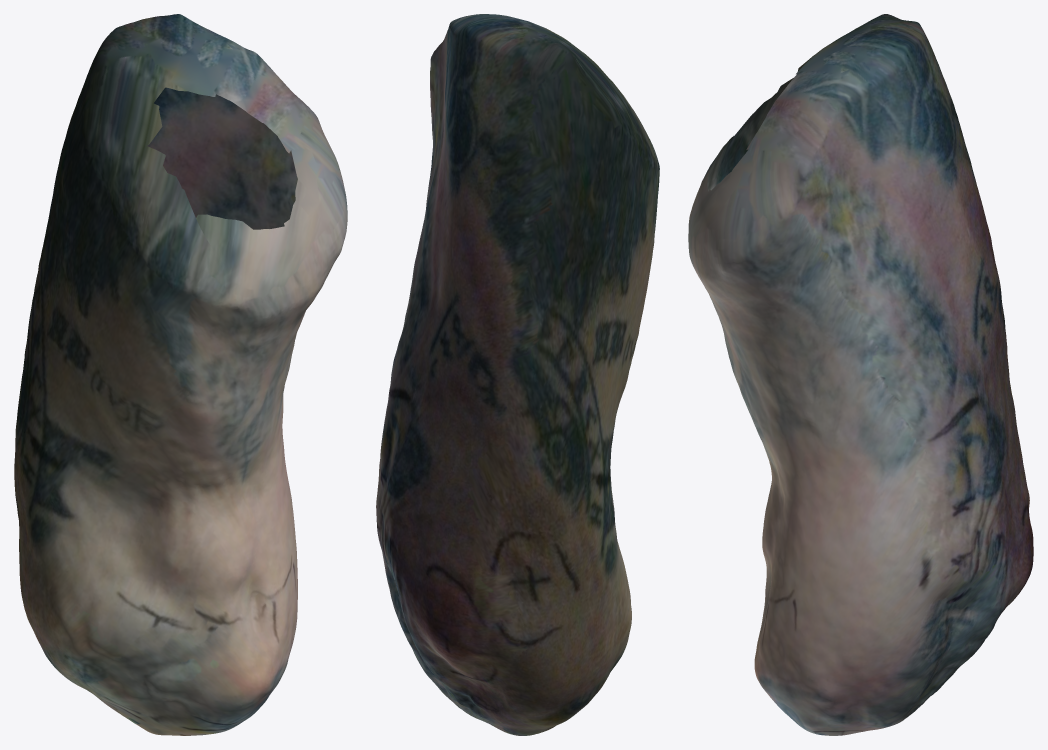
The model's file is case4-scan.glb.
The picture shows the model from 3 angles, left to right: view 1: azimuth 30°, elevation 25°; view 2: azimuth 150°, elevation 25°; view 3: azimuth 270°, elevation 25°; orthographic projection. The views are drawn at different scales.
Visible parts, largest first — view 1: eliseytsevScan; view 2: eliseytsevScan; view 3: eliseytsevScan.
Boxes of the visible parts, x1,y1,x2,y2 form: eliseytsevScan: [14, 14, 347, 735]; eliseytsevScan: [376, 14, 659, 735]; eliseytsevScan: [688, 14, 1033, 735].
Bounding box in the file's own units: 104 × 289 × 130.
1 material, 1 textured.
